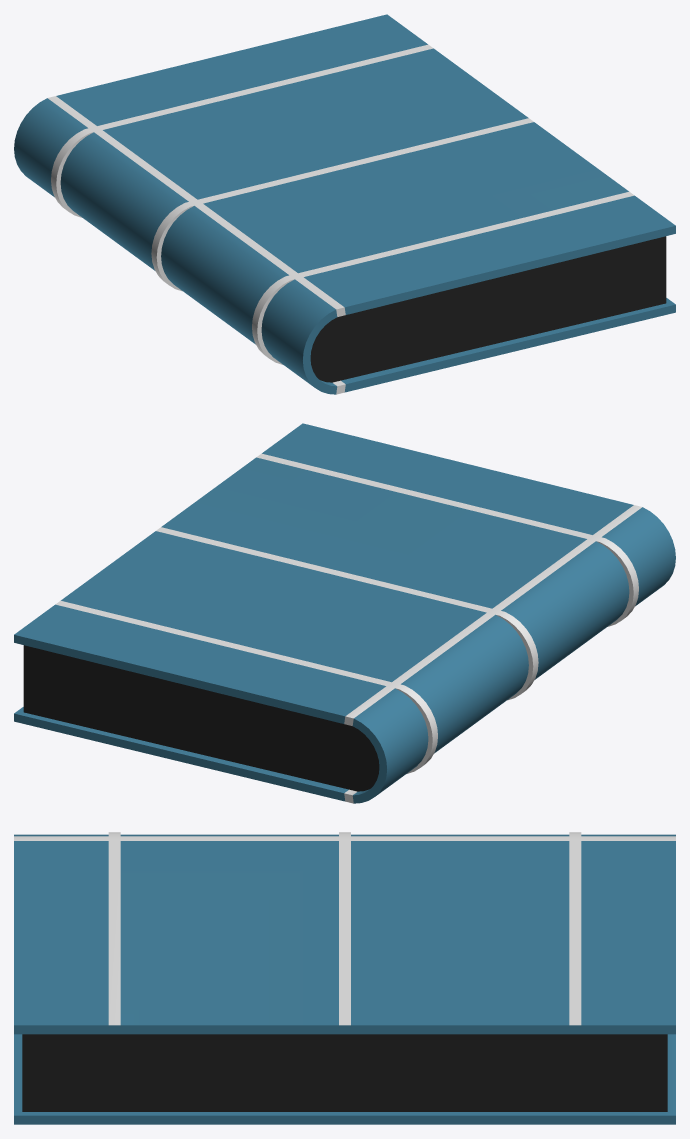
The model's file is future_book.fbx.
The picture shows the model from 3 angles, top to bottom: view 1: azimuth 30°, elevation 25°; view 2: azimuth 150°, elevation 25°; view 3: azimuth 270°, elevation 25°; orthographic projection. The views are drawn at different scales.
Parts seen in each view (by area): view 1: Cylinder; view 2: Cylinder; view 3: Cylinder.
Part boxes in pixels (x1=…): Cylinder: x1=14, y1=14, x2=675, y2=394; Cylinder: x1=14, y1=423, x2=675, y2=803; Cylinder: x1=14, y1=832, x2=675, y2=1124.
Bounding box in the file's own units: 910 × 200 × 1206.
